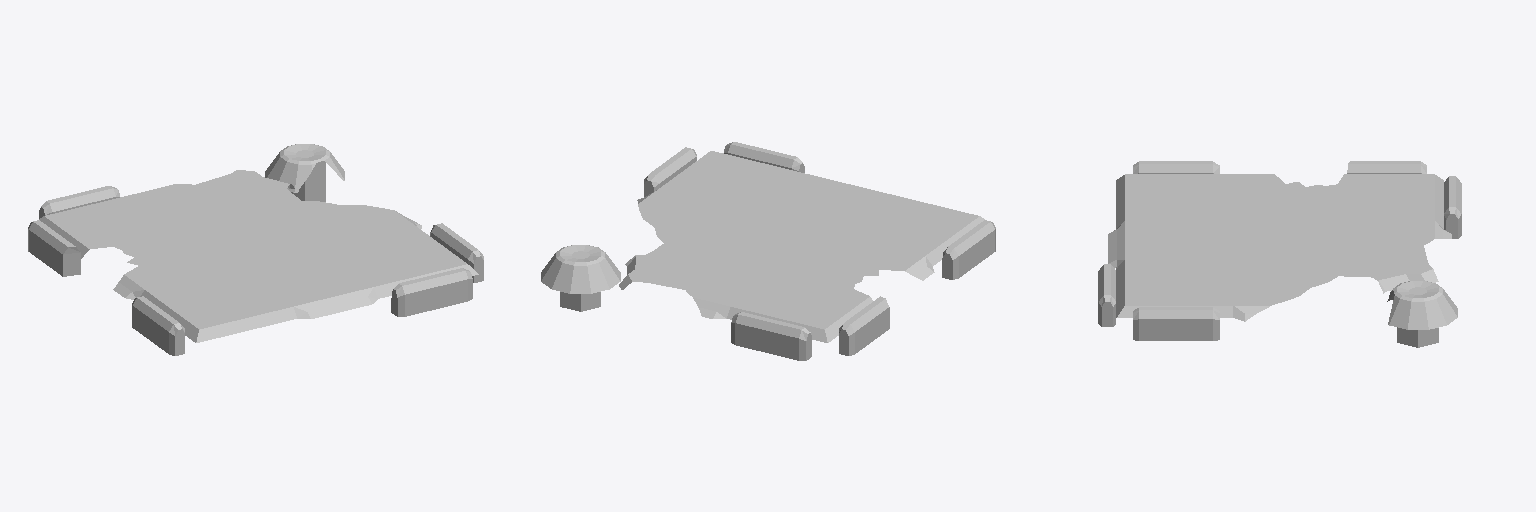
The model's file is ModelComponentBroken2.obj.
The picture shows the model from 3 angles: view 1: azimuth 30°, elevation 25°; view 2: azimuth 150°, elevation 25°; view 3: azimuth 270°, elevation 25°; orthographic projection.
Visible parts, largest first — view 1: ModelComponent; view 2: ModelComponent; view 3: ModelComponent.
Boxes of the visible parts, x1=… form: ModelComponent: x1=28, y1=144, x2=483, y2=355; ModelComponent: x1=541, y1=142, x2=995, y2=360; ModelComponent: x1=1098, y1=161, x2=1461, y2=347.
Size of the model in its own units: 2 by 0.2933 by 2.